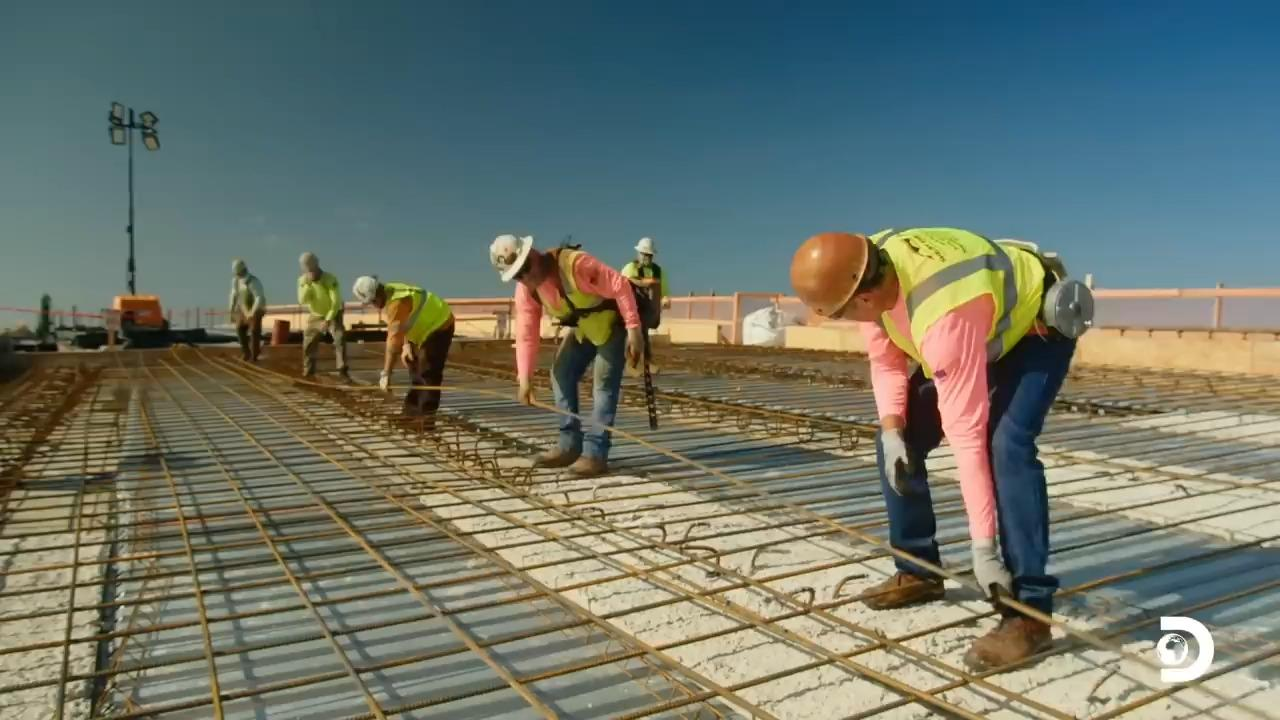Gloves: (876, 419, 926, 494), (975, 543, 1022, 594), (510, 382, 533, 419), (623, 333, 645, 366), (375, 373, 389, 390)
Helmet: (789, 231, 868, 318), (488, 233, 533, 283), (352, 275, 378, 304), (298, 251, 318, 272), (634, 236, 656, 255), (231, 258, 246, 275)
Person: (789, 225, 1094, 672), (488, 233, 644, 475), (351, 274, 455, 431), (296, 251, 351, 382), (228, 258, 266, 362)
Safety Boot: (958, 620, 1047, 667), (861, 569, 949, 608), (563, 455, 606, 478), (524, 445, 564, 466)
Safety Vest: (871, 228, 1037, 343), (554, 264, 614, 348), (397, 292, 444, 330), (305, 279, 336, 315)
